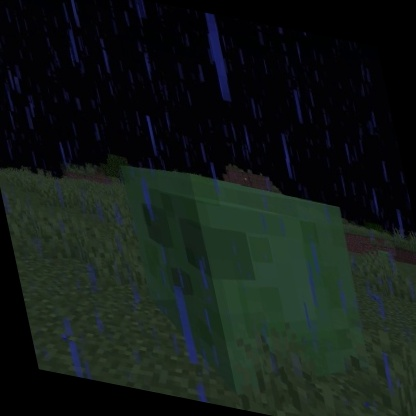slime: (112, 154, 394, 416)
